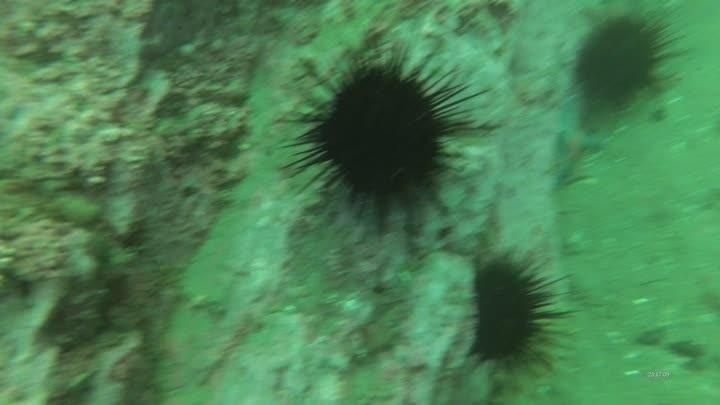echinus: (290, 49, 479, 223), (465, 250, 580, 378), (571, 11, 684, 111)
starfish: (542, 92, 610, 194)
